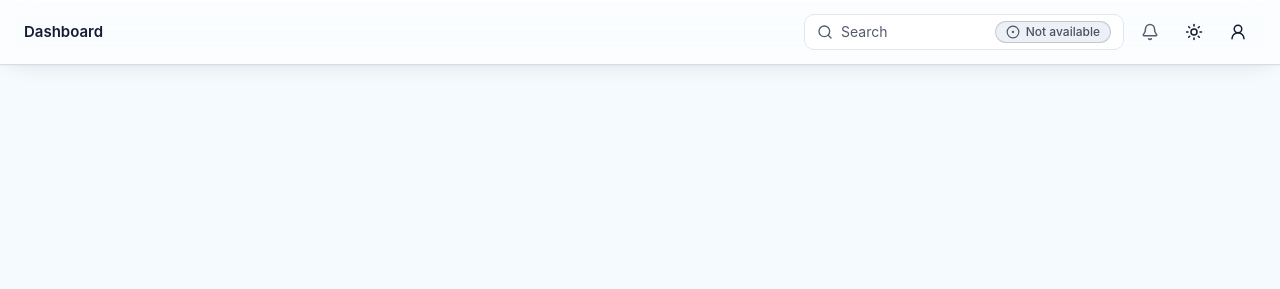
Test case: top bar — unbuilt features are presented honestly › presents the server-resolved identity and a real sign-out
Click the button with test id "user-menu": (1238, 32) 1220,14 -> 1256,50
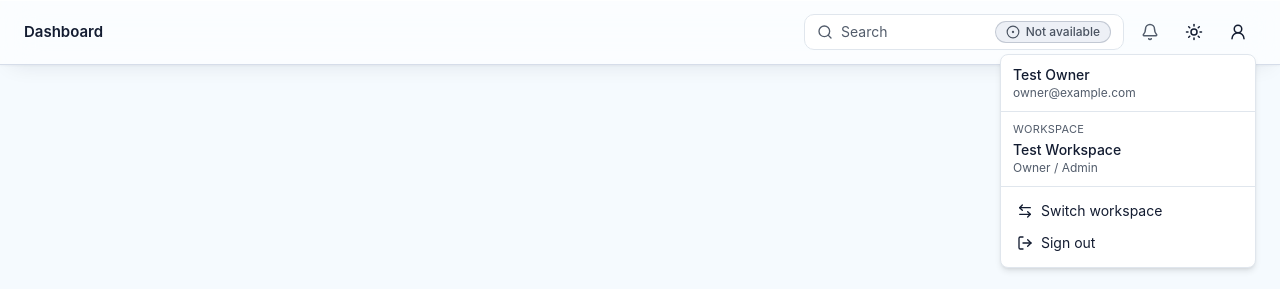
Expected: the text "Test Owner" is shown, 1013,66 -> 1090,83
Expected: the text "owner@example.com" is shown, 1013,85 -> 1136,100
Expected: the form with test id "sign-out" is shown, 1009,227 -> 1247,259
